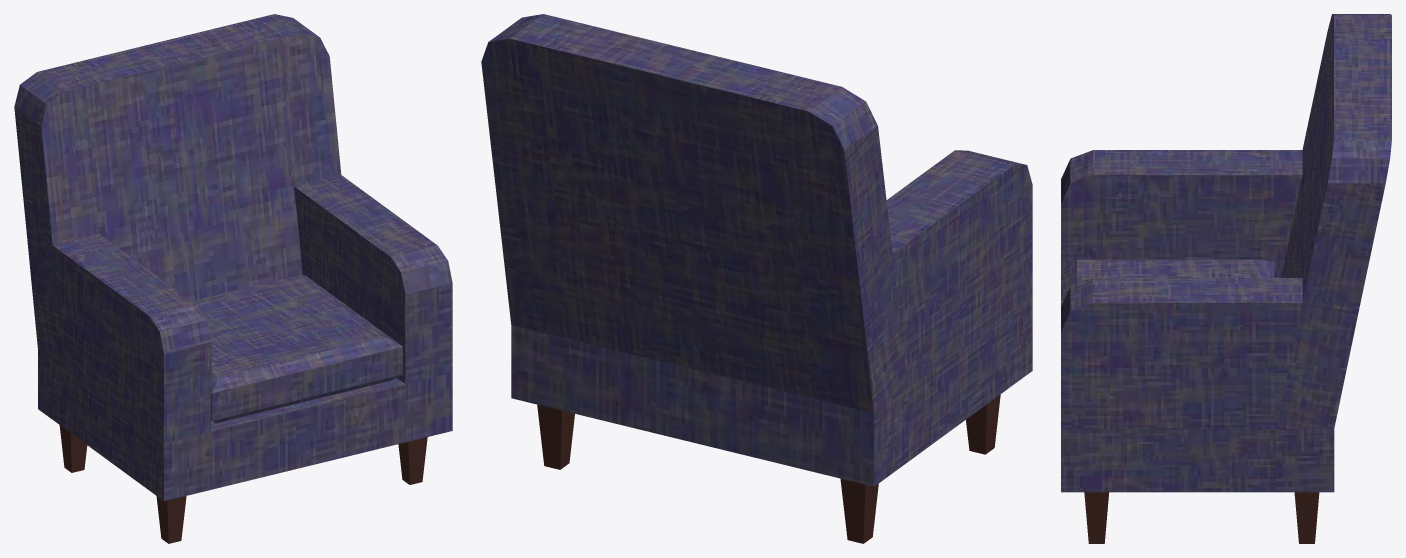
Rendered from armchair-blue-webp.glb.
3 views of the same model, side by side, from view 1: azimuth 30°, elevation 25°; view 2: azimuth 150°, elevation 25°; view 3: azimuth 270°, elevation 25° (orthographic). The views are drawn at different scales.
Visible parts, largest first — view 1: Armchair, Armchair.001; view 2: Armchair, Armchair.001; view 3: Armchair, Armchair.001.
Part boxes in pixels (x1,y1,x2,y2): Armchair: (14,14,452,501); Armchair.001: (59,425,427,543); Armchair: (481,14,1032,486); Armchair.001: (537,394,1000,543); Armchair: (1061,14,1391,492); Armchair.001: (1084,492,1319,543).
Size of the model in its own units: 0.5881 by 0.7162 by 0.5384.
2 materials, 2 textured.
